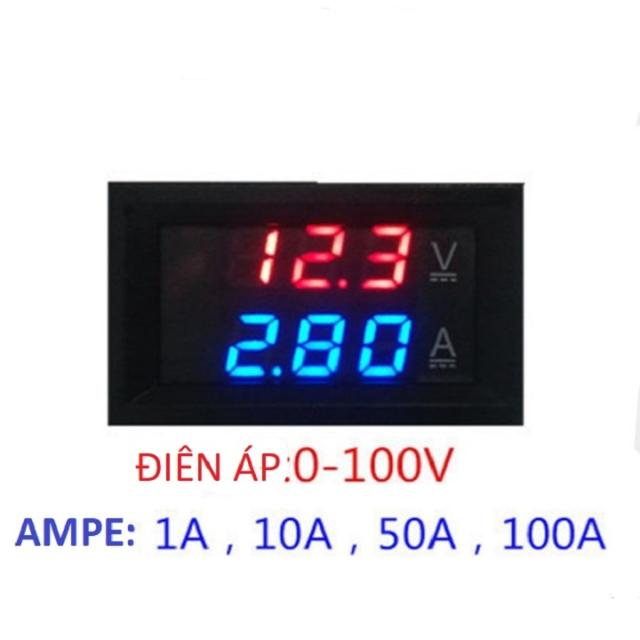.: (271, 361, 287, 382), (335, 274, 349, 290)
0: (352, 308, 418, 382)
1: (226, 218, 286, 292)
2: (224, 312, 288, 386), (291, 217, 350, 290)
3: (356, 218, 419, 299)
8: (295, 313, 352, 378)
screen: (159, 222, 475, 382)
